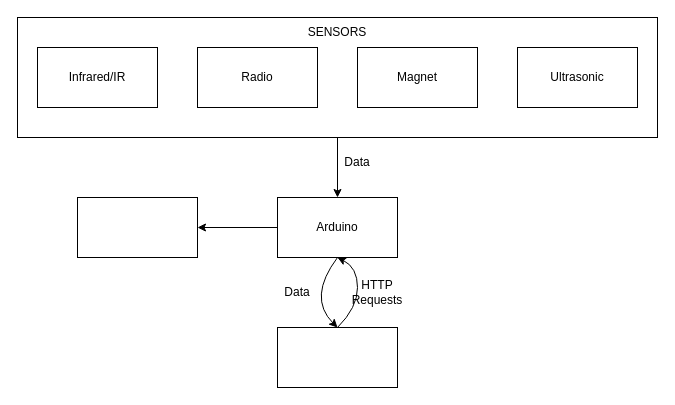
The diagram is 675 pixels wide and 405 high, and some of its shapes have lost their labels. The box of each missing label's shape, as (x1, y1, x2, y2) in pixels:
Interface: (276, 326, 398, 388)
Motors: (76, 196, 198, 258)
